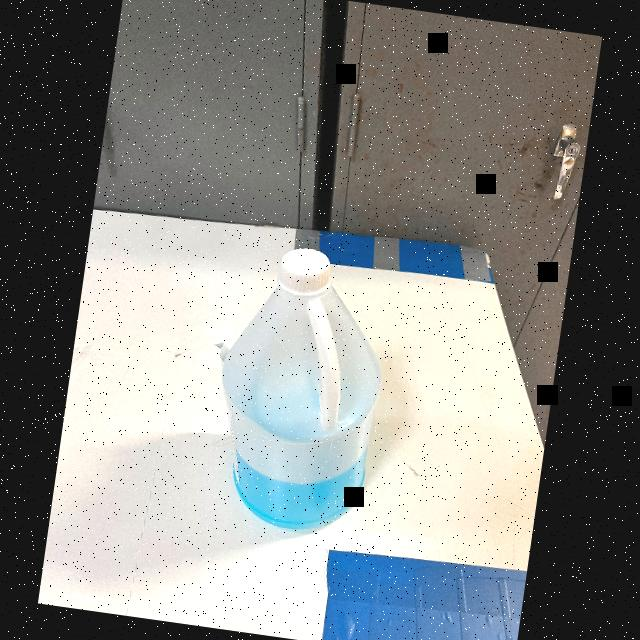chemical_plastic_gallon: (212, 232, 401, 542)
